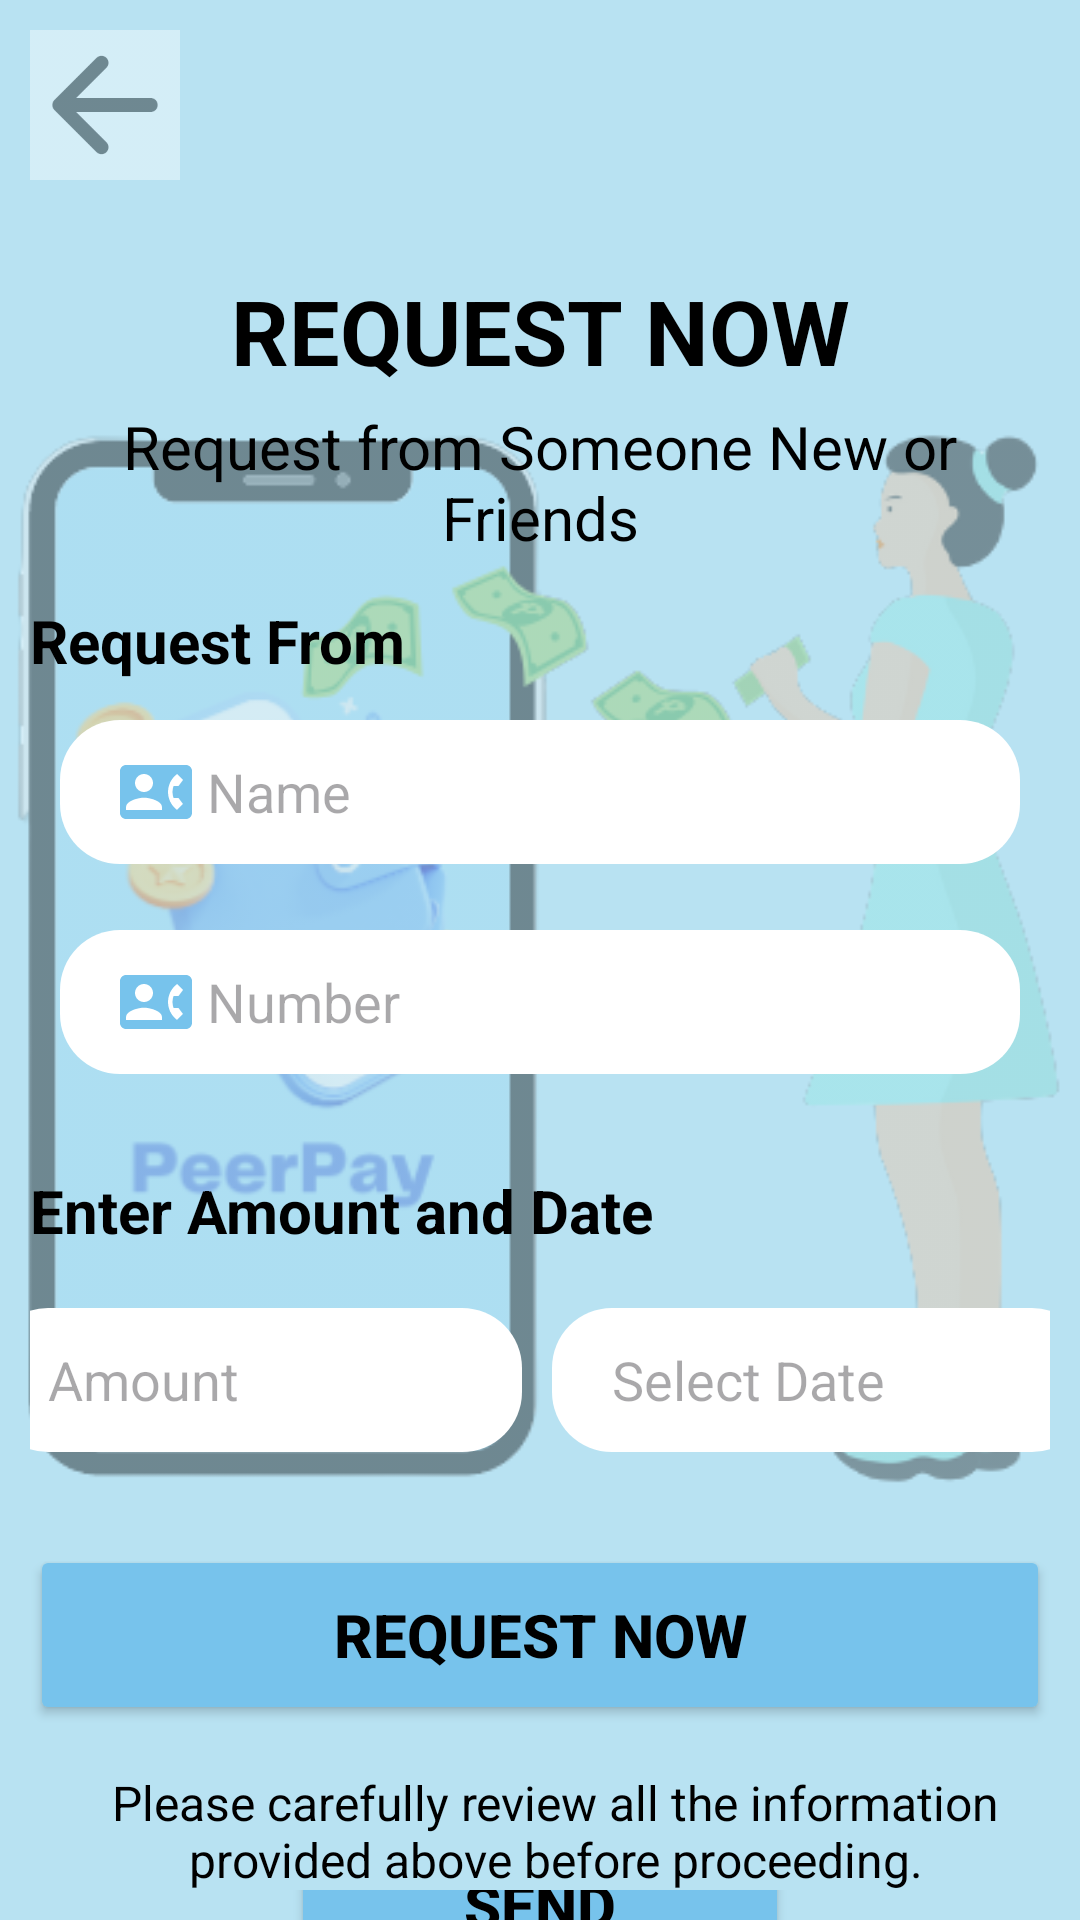

Screen size 1080 × 1920. Icon name, then its box in pixels as (x1,y1,x2,y2):
Back Button: (30,30,180,180)
